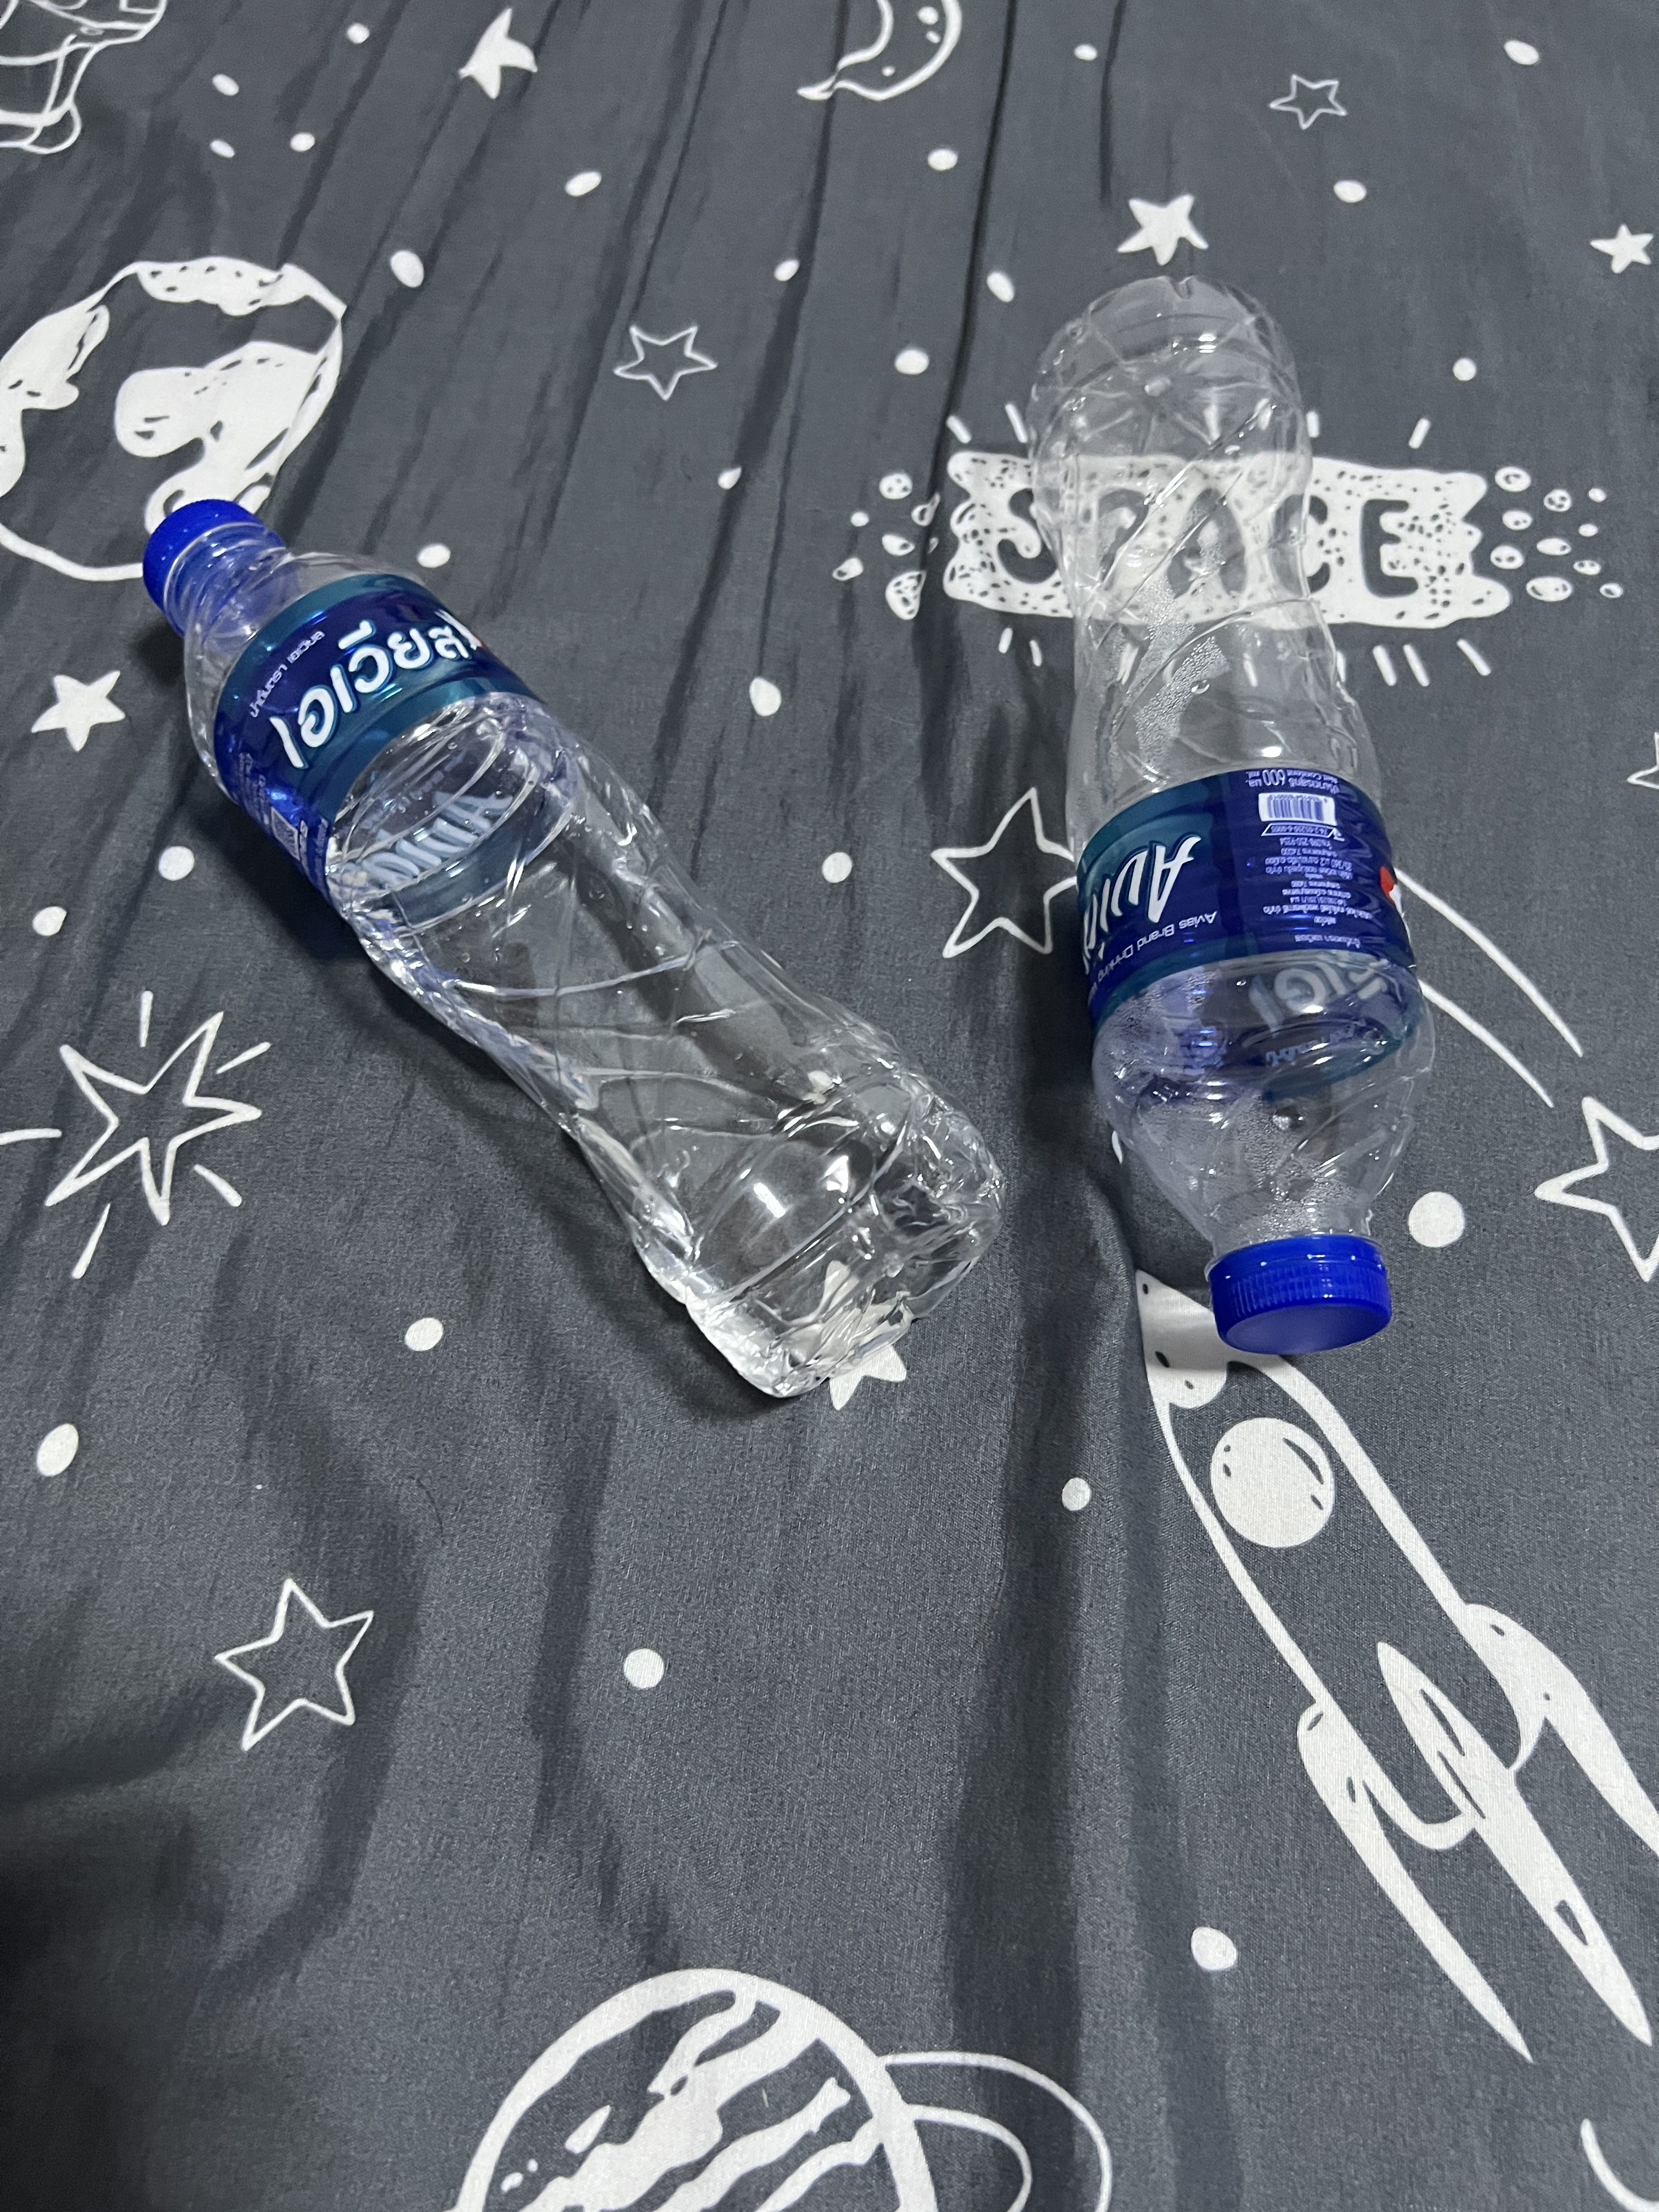plastic_bottle: (124, 474, 1014, 1432), (995, 240, 1471, 1411)
